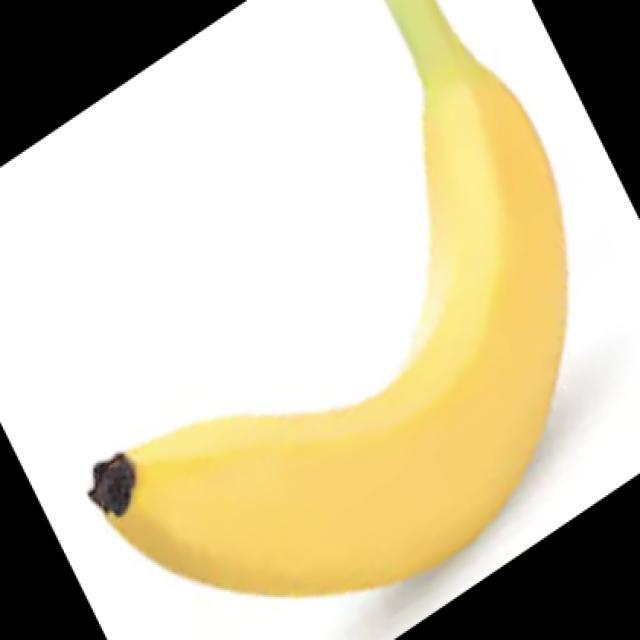Banana: (86, 0, 568, 598)
